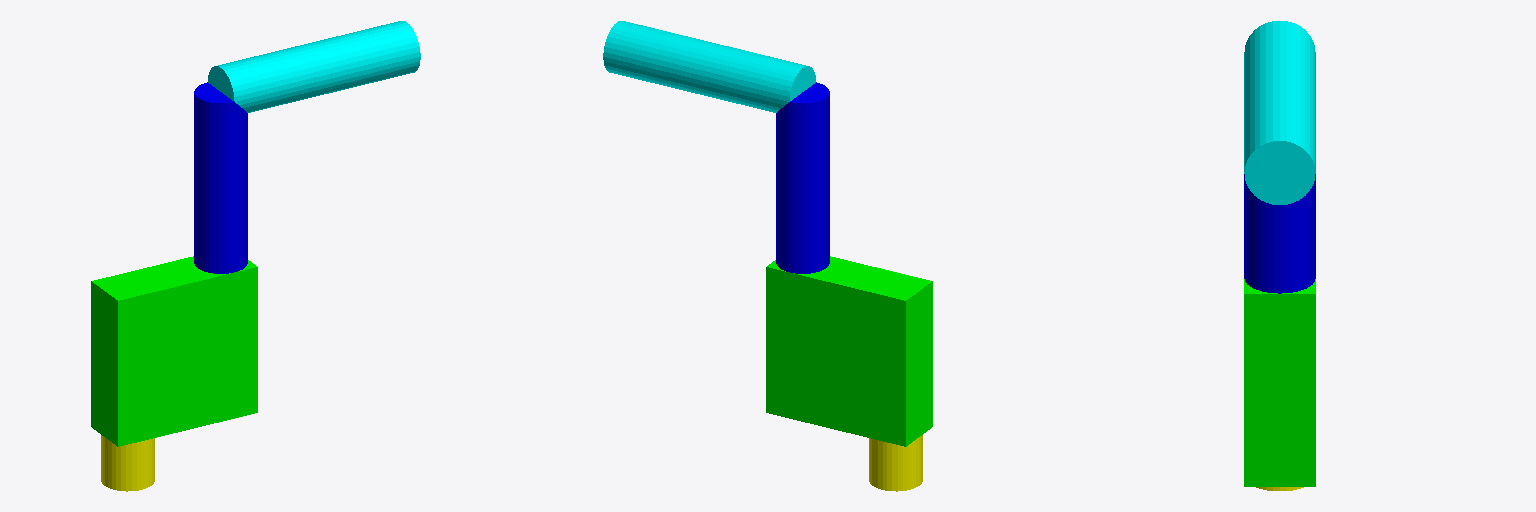
The robot description file, URDF, robot "simple_robot":
<robot name="simple_robot"> <!-- robot name- you decide -->
<!-- sequence : link-joint-link-joint-...-link... -->
<!-- units: meters for distance,rad in case of angles -->
<!-- first link called base_link -->
<link name= "base_link">
	<visual>
		<geometry>
			<cylinder length="0.1" radius="0.05"/>
		</geometry>
		<origin rpy="0 0 0" xyz="0 0 0"/> <!-- rpy: roll pitch yaw -> orientation xyz -> position --> 
		<material name= "base_color">
			<color rgba="1 1 0 1"/> 
		</material>
	</visual>

</link>

<!-- first joint-->
<joint name="joint1" type= "revolute"> <!-- types: revolute and prismatic -->
	<parent link="base_link"/>
	<child link="link1"/>
	<origin xyz ="0 0 0.1"/>
	<axis xyz="0 0 1"/>
	<limit effort="300" velocity="0.1" lower="-3.14159" upper="3.14159"/>
	<dynamics damping="50" friction="1"/>

</joint>
<!-- link1-->
<link name= "link1">
	<visual>
		<geometry>
        	<box size="0.3 0.1 0.3"/>
      	</geometry>
		<origin rpy="0 0 0" xyz="0.10 0 0.10"/> <!-- rpy: roll pitch yaw -> orientation xyz -> position --> 
		<material name= "link1_color">
			<color rgba="0 1 0 1"/> 
		</material>
	</visual>

</link>

<!-- second joint-->
<joint name="joint2" type= "revolute"> <!-- types: revolute and prismatic -->
	<parent link="link1"/>
	<child link="link2"/>
	<origin xyz ="0.2 0 0.2"/>
	<axis xyz="0 1 0"/>
	<limit effort="300" velocity="0.1" lower="-3.14159" upper="3.14159"/>
	<dynamics damping="50" friction="1"/>

</joint>

<!-- link2-->
<link name= "link2">
	<visual>
		<geometry>
			<cylinder length="0.4" radius="0.05"/>
		</geometry>
		<origin rpy="0 0 0" xyz="0 0 0.2"/> <!-- rpy: roll pitch yaw -> orientation xyz -> position --> 
		<material name= "link2_color">
			<color rgba="0 0 1 1"/> 
		</material>
	</visual>

</link>

<!-- third joint-->
<joint name="joint3" type= "revolute"> <!-- types: revolute and prismatic -->
	<parent link="link2"/>
	<child link="link3"/>
	<origin xyz ="0 0 0.4"/>
	<axis xyz="0 -1 0"/>
	<limit effort="300" velocity="0.1" lower="-3.14159" upper="3.14159"/>
	<dynamics damping="50" friction="1"/>

</joint>

<!-- link3-->
<link name= "link3">
	<visual>
		<geometry>
			<cylinder length="0.4" radius="0.05"/>
		</geometry>
		<origin rpy="0 1.5707 0" xyz="0.2 0 0"/> <!-- rpy: roll pitch yaw -> orientation xyz -> position --> 
		<material name= "link3_color">
			<color rgba="0 1 1 1"/> 
		</material>
	</visual>

</link>


<!-- link extra-->
<joint name="joint4" type="fixed">
	<parent link="link3"/>
	<child link="link4"/>
	<origin xyz="0.4 0 0"/>
	<axis xyz="1 0 0"/>
	<limit effort="300" velocity="0.1" lower="-3.14159" upper="3.14159"/>
    <dynamics damping="50" friction="1"/>
</joint>
  
<link name="link4">
	<visual>
		<geometry>
			<cylinder length="0.0" radius="0.0"/>
		</geometry>
		<origin rpy="0 0 0" xyz="0 0 0"/> <!-- rpy: roll pitch yaw -> orientation xyz -> position --> 
        <material name= "link4_color">
            <color rgba="0 0 0 1"/> 
        </material>
	</visual>
</link>


</robot>

--- What the picture shows (computed from the rendered views, not written in the file) ---
Views: 3 orthographic renders of the robot side by side, from view 1: azimuth 30°, elevation 25°; view 2: azimuth 150°, elevation 25°; view 3: azimuth 270°, elevation 25°.
Model simple_robot with 5 links and 4 joints (3 revolute, 1 fixed), rooted at base_link, posed all joints at 0.
Visible links, largest first — view 1: link1, link3, link2, base_link; view 2: link1, link3, link2, base_link; view 3: link1, link3, link2.
Link boxes in pixels (box(x1,y1,x2,y2)): link1: box(91, 256, 257, 446); link3: box(208, 21, 420, 112); link2: box(194, 82, 247, 273); base_link: box(101, 435, 154, 491); link1: box(766, 256, 932, 446); link3: box(603, 21, 815, 112); link2: box(776, 82, 829, 273); base_link: box(869, 435, 922, 491); link1: box(1244, 279, 1315, 486); link3: box(1244, 21, 1315, 204); link2: box(1244, 174, 1315, 293).
Bounding box of the posed robot: 0.65 × 0.1 × 0.8 m (x, y, z).
Geometry: primitives only (box / cylinder / sphere), no mesh files.